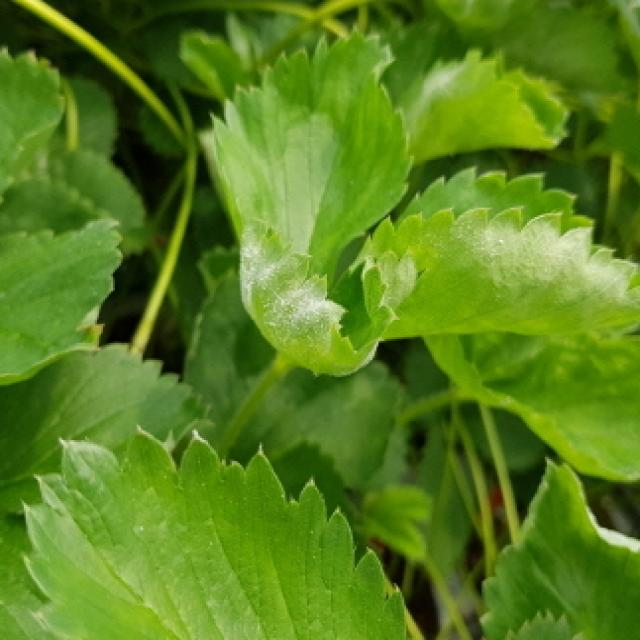Powdery Mildew Leaf: (23, 423, 406, 640), (345, 165, 640, 342), (478, 455, 640, 640), (236, 219, 420, 379), (399, 45, 569, 166), (431, 0, 538, 32)
